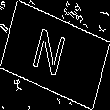N_S: (35, 25, 75, 85)
